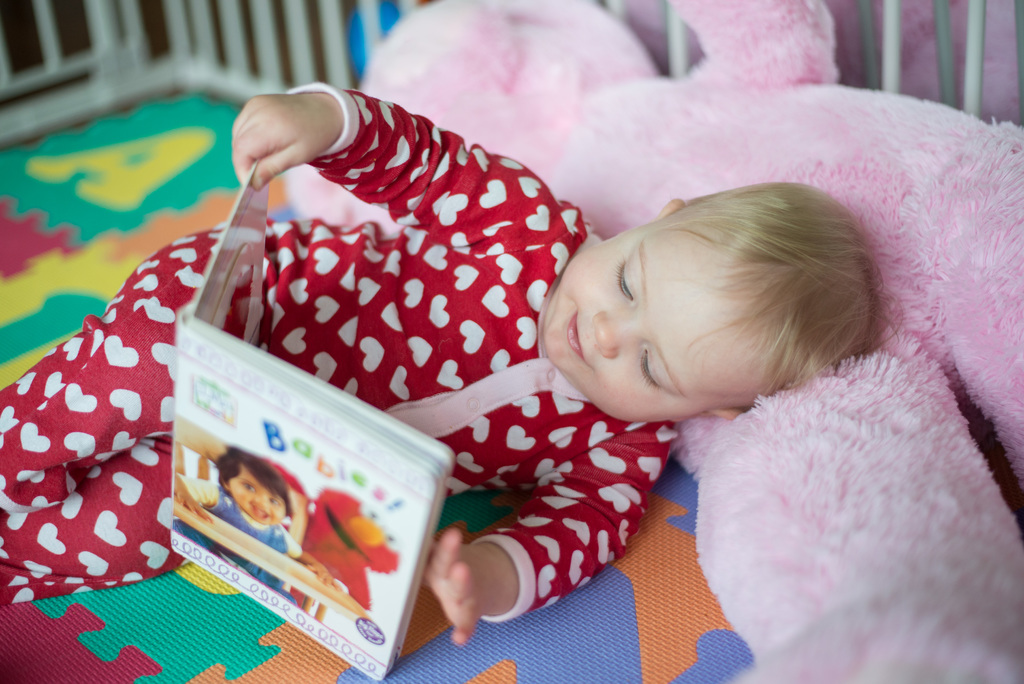Human_hand: (228, 88, 314, 196), (423, 527, 482, 651), (173, 472, 217, 523), (308, 561, 343, 592)
